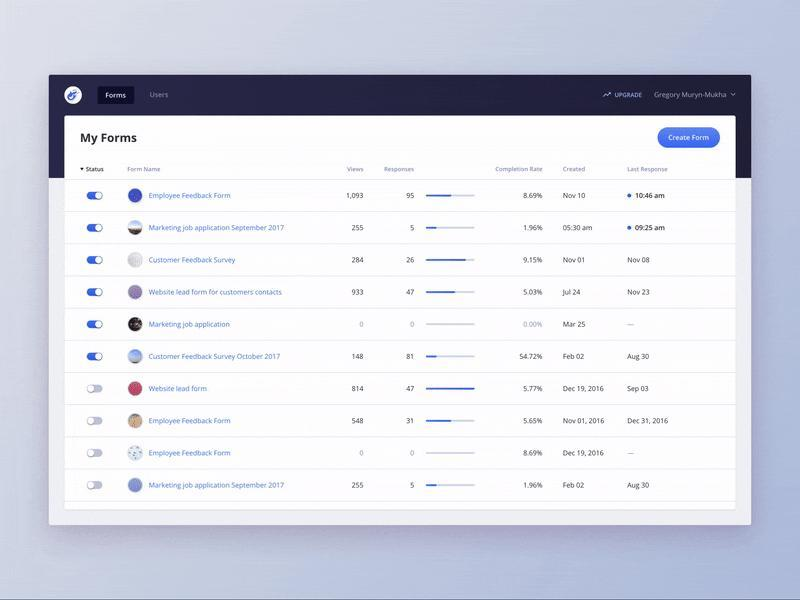button: (659, 126, 721, 150), (599, 87, 648, 105), (98, 88, 135, 106), (144, 88, 178, 105)
label: (81, 132, 140, 147)
switch: (88, 192, 105, 202), (88, 481, 104, 491), (88, 257, 105, 266), (88, 224, 104, 233), (88, 289, 104, 298), (88, 450, 104, 459), (88, 321, 105, 329), (87, 354, 104, 362), (88, 418, 104, 426), (88, 386, 103, 394)
